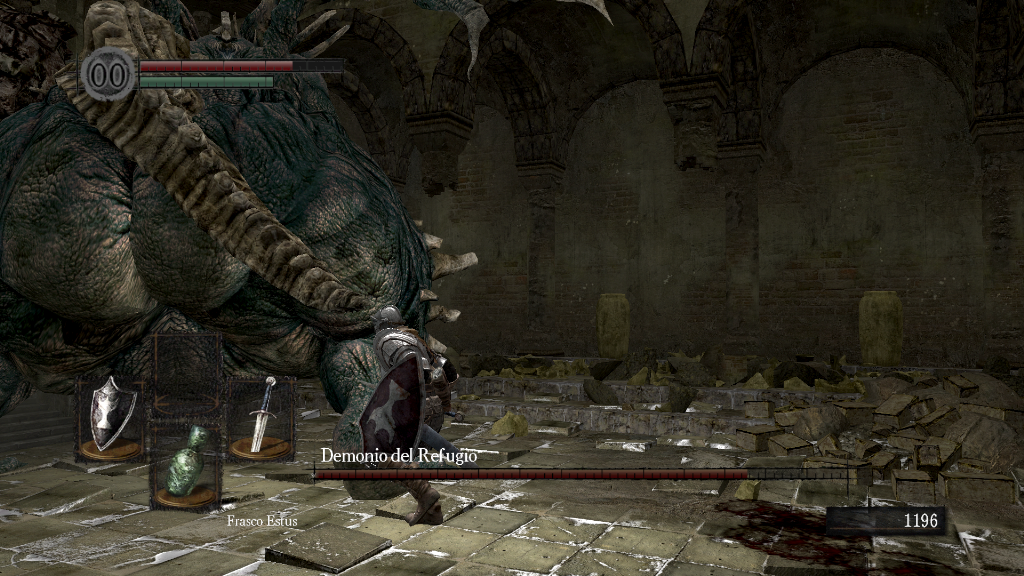asylumDemon: (1, 1, 618, 505)
bossHP: (314, 469, 847, 479)
health: (138, 58, 343, 71)
humanity: (80, 45, 136, 102)
player: (359, 305, 458, 527)
souls: (825, 506, 945, 536)
stamina: (138, 74, 274, 88)
